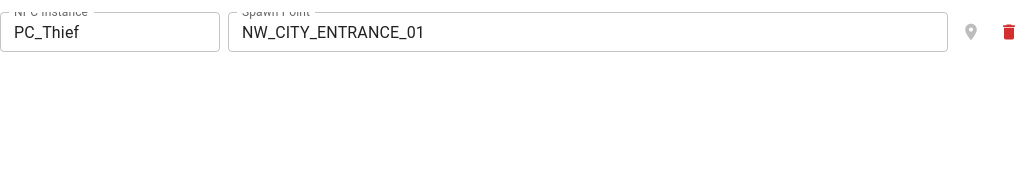
Test: the spawn point jumps to the world › distinguishes "not in this world" from "no world", and does not claim the point is missing
Hover over the element named "NW_CITY_ENTRANCE_01 is not in the open world".
mouse_move(971, 32)  # box x1=956 y1=17 x2=986 y2=47
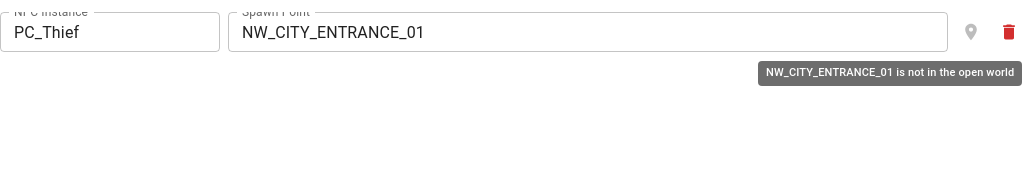
Result: the text "NW_CITY_ENTRANCE_01 is not in the open world" is shown at x1=758 y1=61 x2=1022 y2=86
